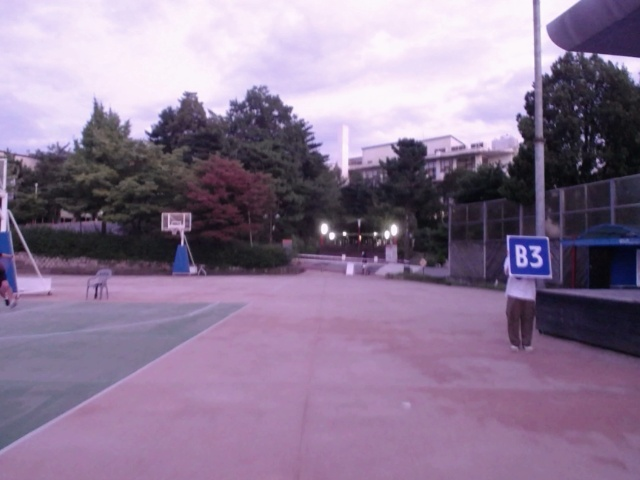delivery_b3: (507, 234, 553, 279)
